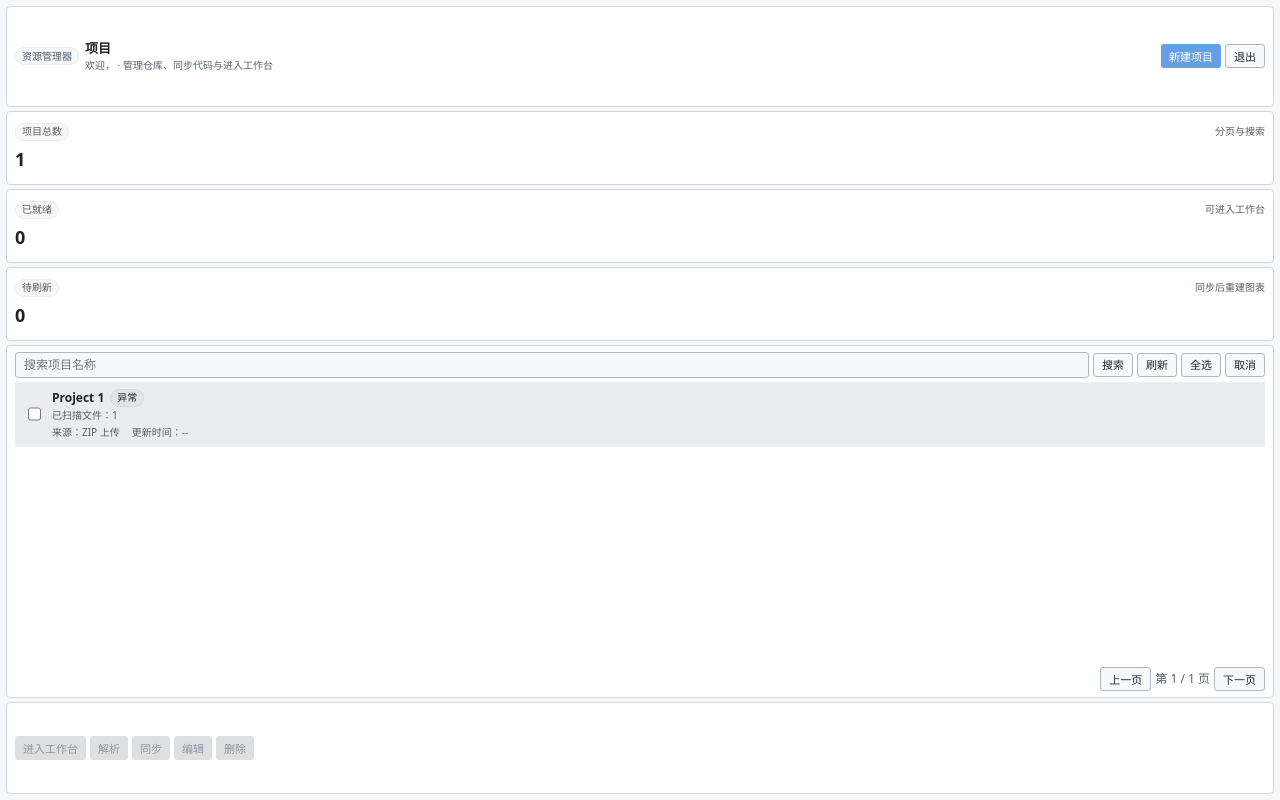
Test case: review: visible workflow evidence › C17: parsing permits only one pending request
Click the checkbox at (34, 414), box [28, 402, 41, 426]
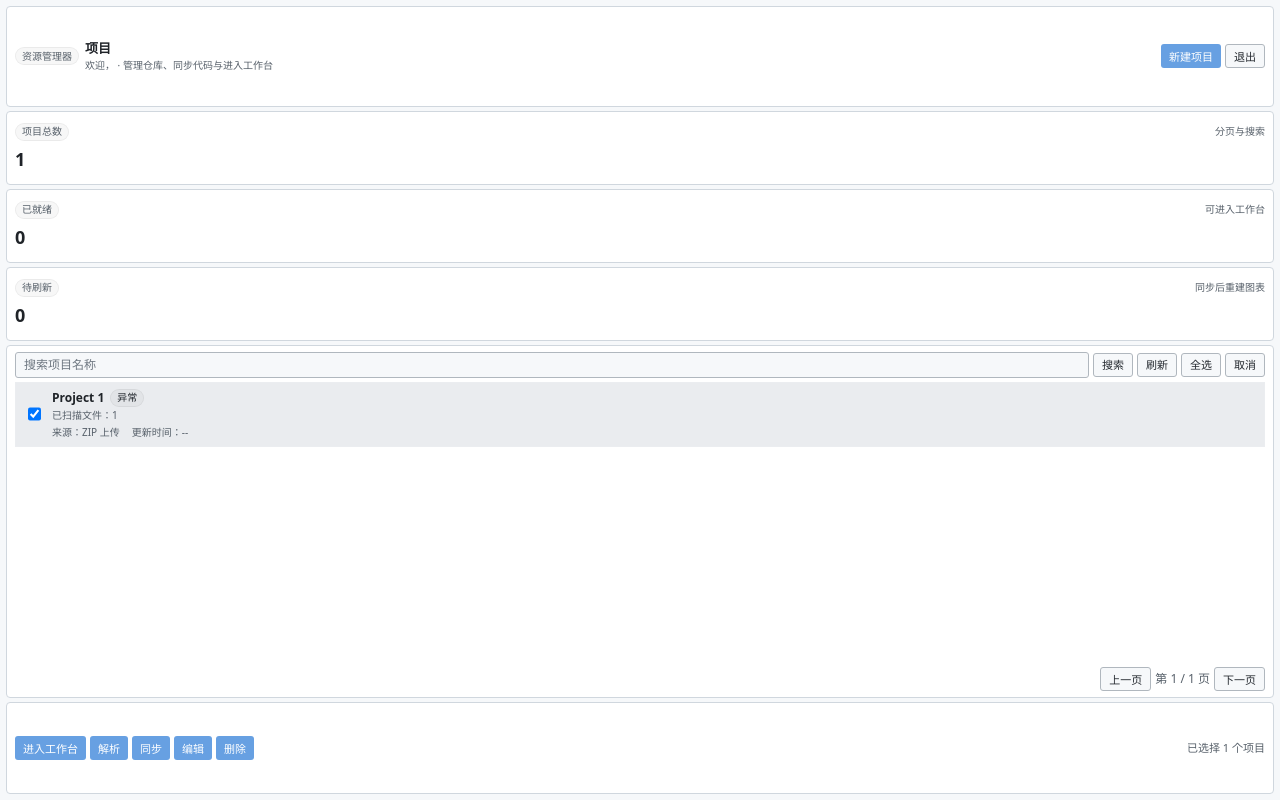
Click the button "解析" at (109, 748), box [90, 736, 128, 760]
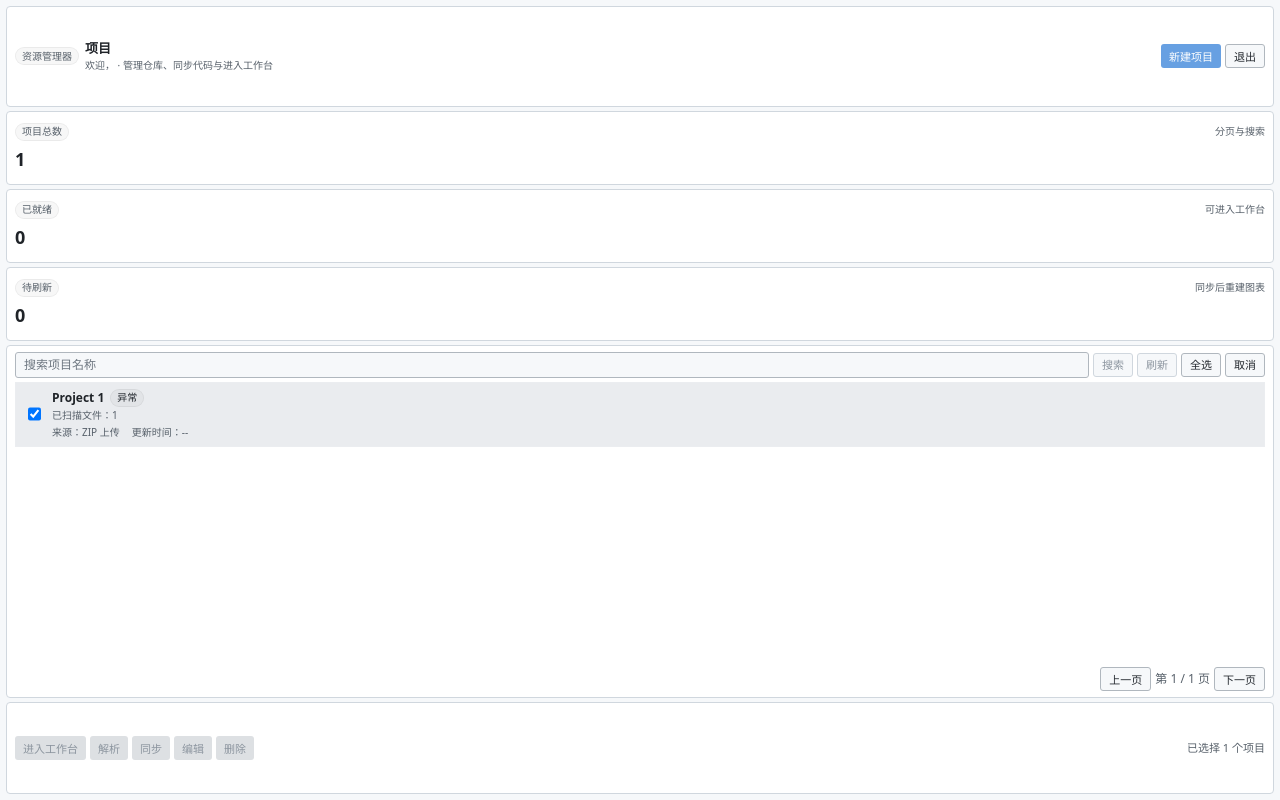
Check: the button "解析" is disabled
Check: the button "同步" is disabled, box [132, 736, 170, 760]
Check: the button "删除" is disabled, box [216, 736, 254, 760]
Click the button "解析" at (109, 748), box [90, 736, 128, 760]
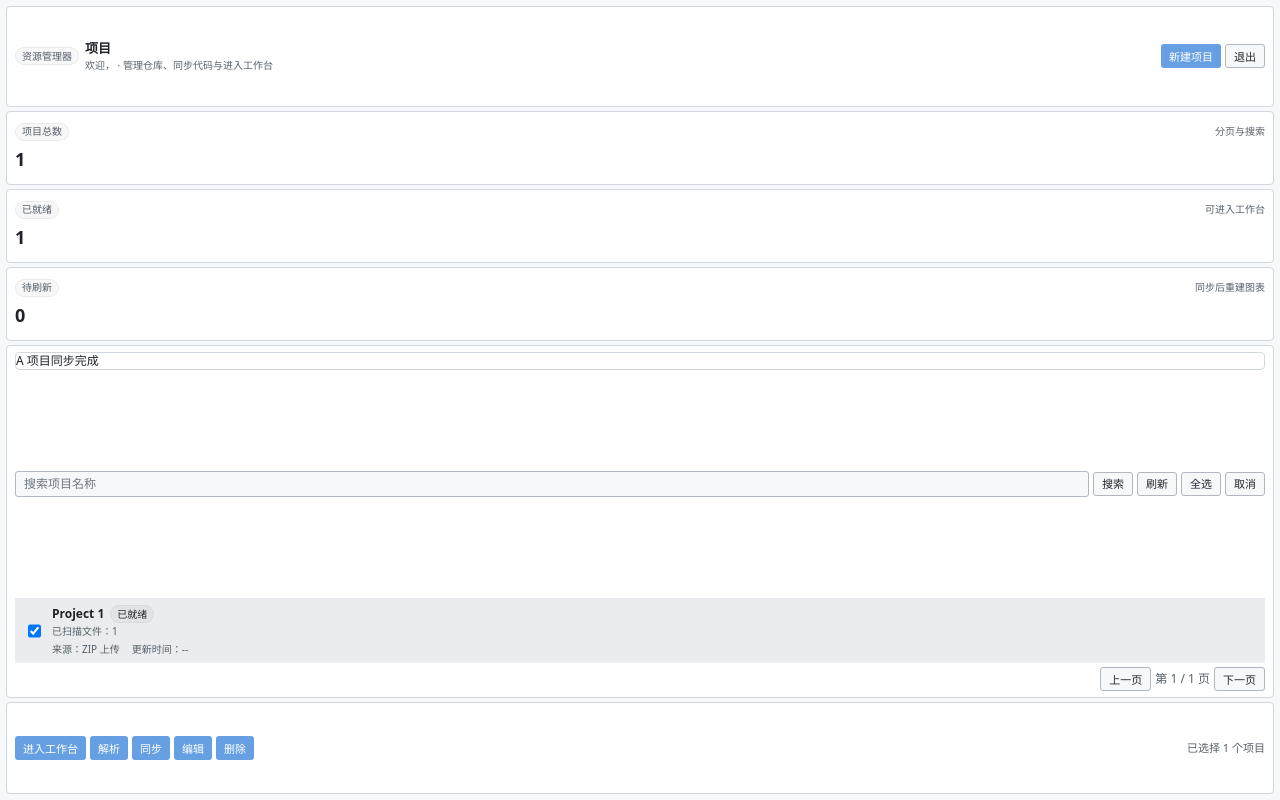
Check: the button "解析" is enabled, box [90, 736, 128, 760]
